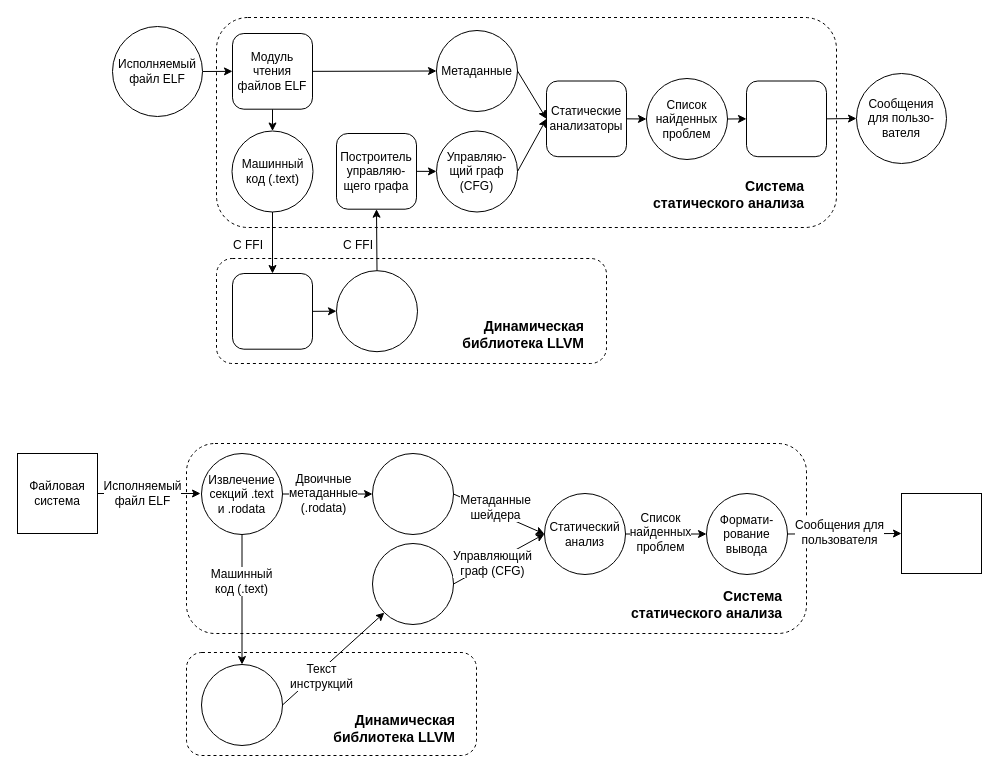
Some shapes in this 999 by 773 pixel diagram are drawn without their labels. Each missing label, with the centre of its shape:
"Диз-ассемблер" belongs at point 272,310.
"Дизассем-блирование инструкций" belongs at point 241,705.
"Извлечение метаданных" belongs at point 413,493.
"Модуль форматиро-вания вывода" belongs at point 786,118.
"Построение управл-го графа" belongs at point 413,583.
"Стандартный поток вывода (stdout)" belongs at point 941,533.
"Текстовое предст-ие инструкций" belongs at point 377,311.
